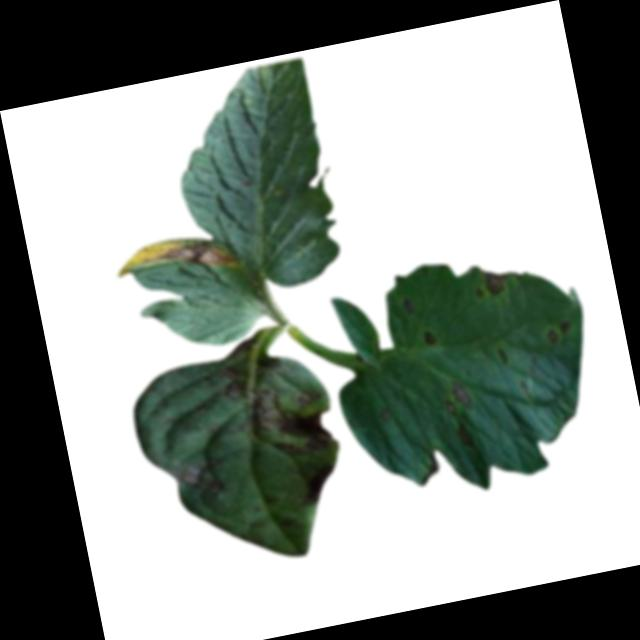Early_blight: (214, 346, 335, 468), (109, 225, 241, 290), (163, 453, 231, 506), (293, 462, 339, 506), (439, 377, 474, 418), (479, 263, 510, 298), (542, 317, 572, 345), (452, 417, 476, 452), (420, 324, 437, 348), (401, 296, 417, 316)
